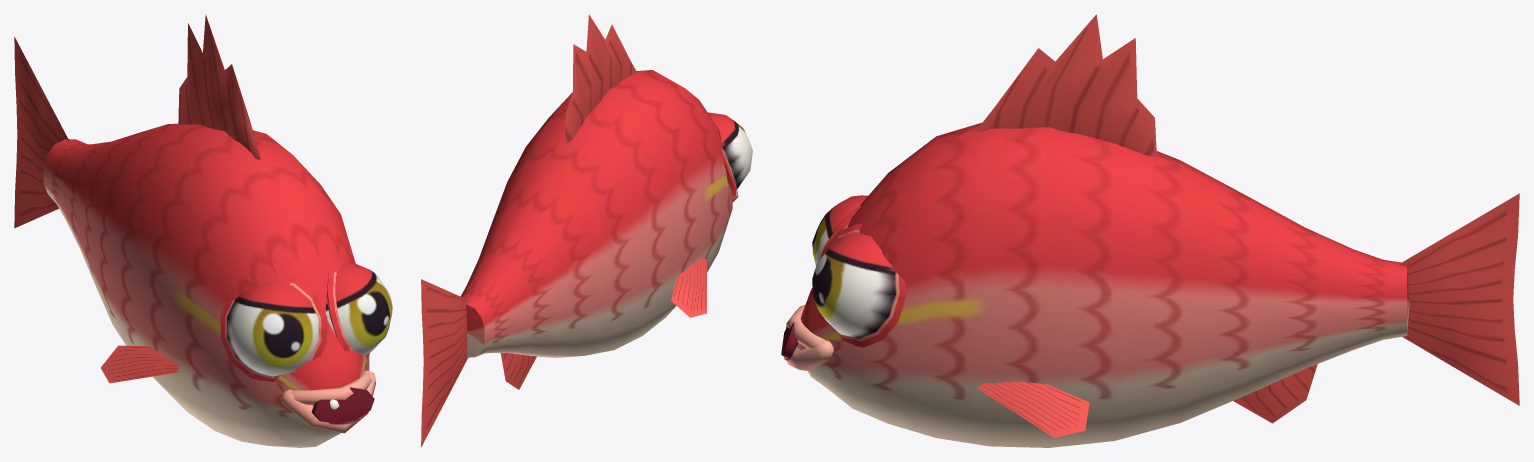
File: fish_snapper.glb
3 views of the same model, side by side, from view 1: azimuth 30°, elevation 25°; view 2: azimuth 150°, elevation 25°; view 3: azimuth 270°, elevation 25° (orthographic). The views are drawn at different scales.
Parts seen in each view (by area): view 1: fish_snapper; view 2: fish_snapper; view 3: fish_snapper.
Boxes of the visible parts, bbox=[...] form: fish_snapper: bbox=[14, 14, 392, 447]; fish_snapper: bbox=[421, 14, 752, 447]; fish_snapper: bbox=[781, 14, 1519, 447].
Bounding box in the file's own units: 0.2372 × 0.3793 × 0.5947.
Materials: 3 (3 with a texture image).
